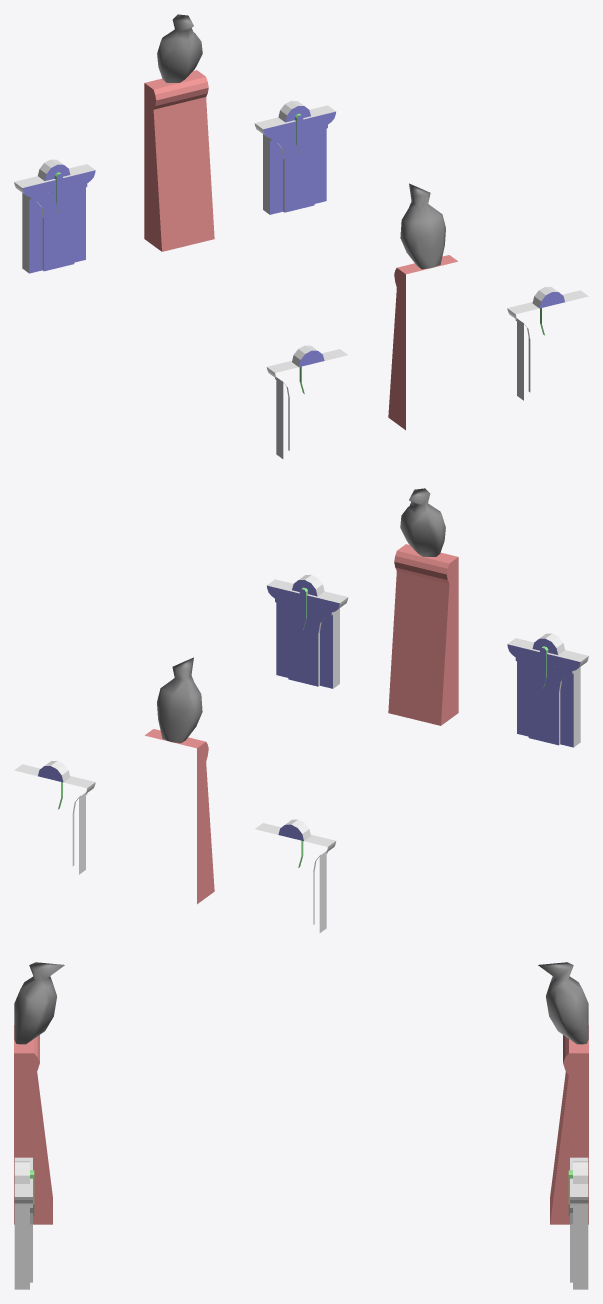
File: SSQ_dungeon_S__SSQ_hallway_Objset02.gltf
3 renders of one model, top to bottom at view 1: azimuth 30°, elevation 25°; view 2: azimuth 150°, elevation 25°; view 3: azimuth 270°, elevation 25°, orthographic. The views are drawn at different scales.
Visible parts, largest first — view 1: SSQ_hallway_Objset02; view 2: SSQ_hallway_Objset02; view 3: SSQ_hallway_Objset02.
Part boxes in pixels (x1,y1,x2,y2): SSQ_hallway_Objset02: (14, 14, 588, 458); SSQ_hallway_Objset02: (14, 488, 588, 932); SSQ_hallway_Objset02: (14, 962, 588, 1289).
Bounding box in the file's own units: 2.22 × 1.51 × 3.21.
